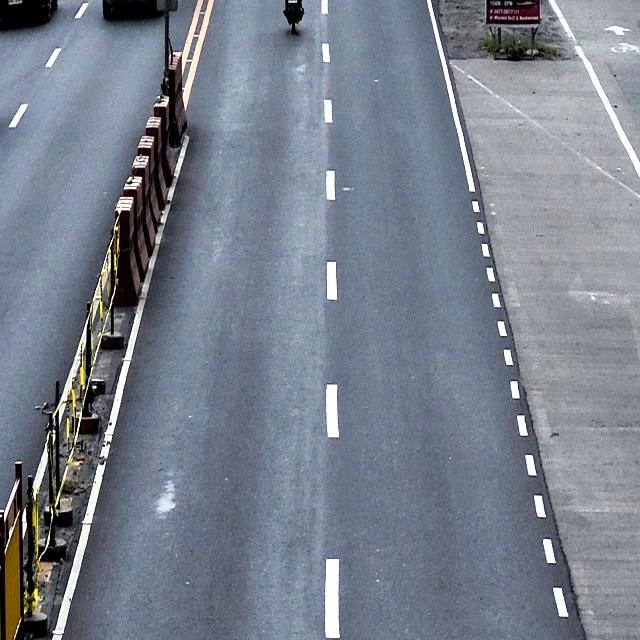Motorcycle: (284, 0, 304, 34)
